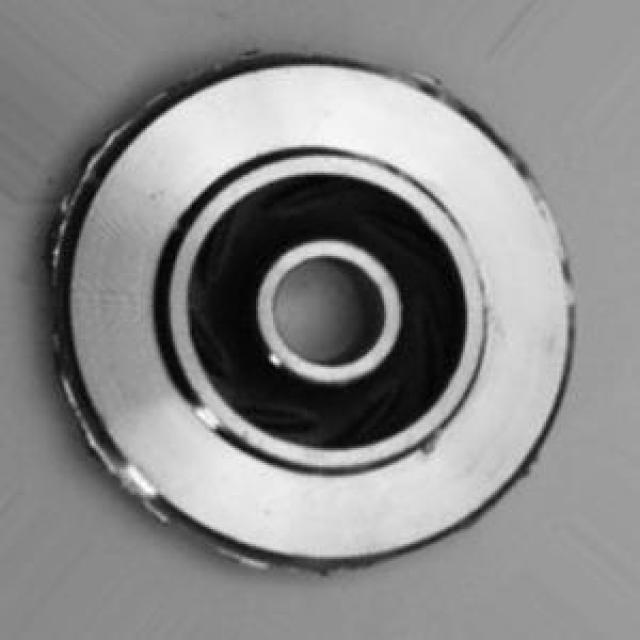Defect: (55, 374, 106, 461)
